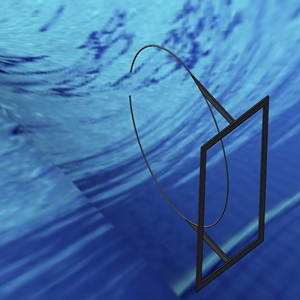circle: (126, 42, 269, 289)
